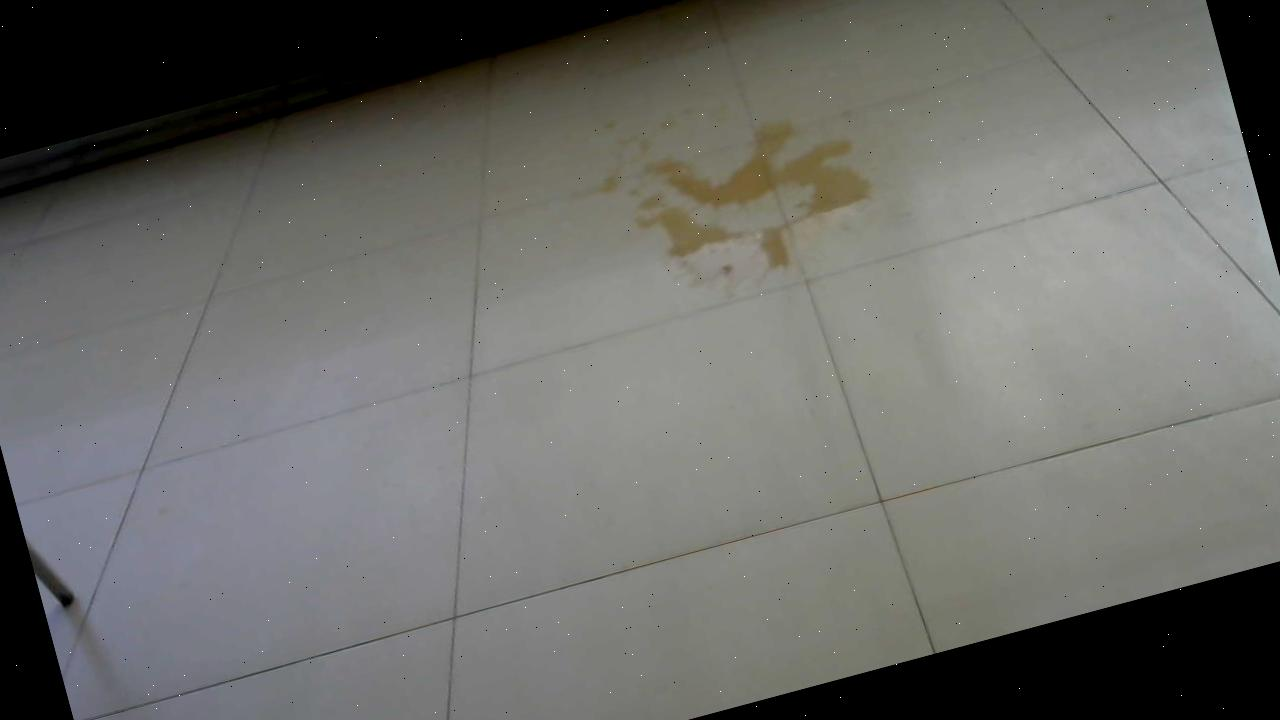dirty_floor: (588, 78, 902, 340)
